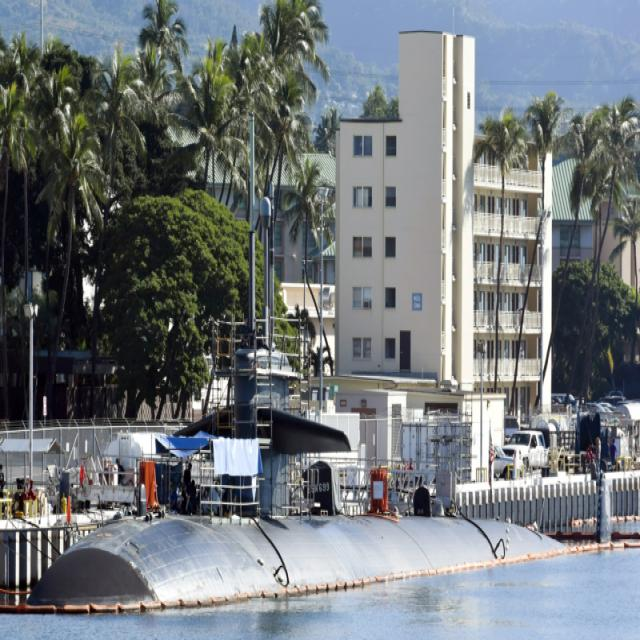submarine: (22, 173, 612, 610)
